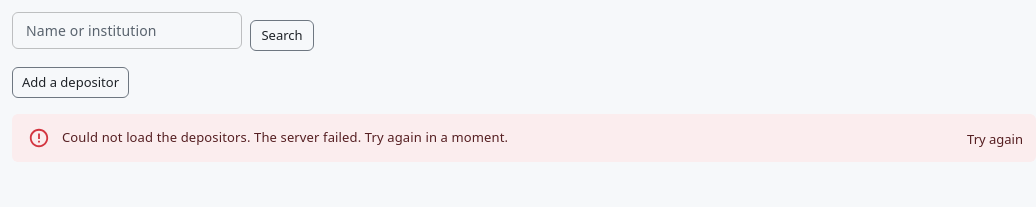
Test: DepositorList › shows a load error with a retry that works
Click the button "Try again". click: (995, 139)
box: [962,124,1028,154]
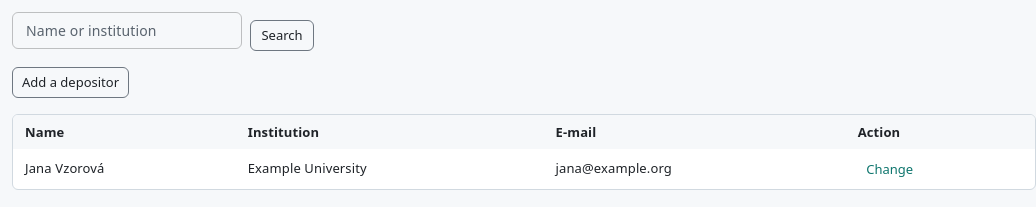
Expected: the table named "Depositors" is shown, [13,114,1035,189]
